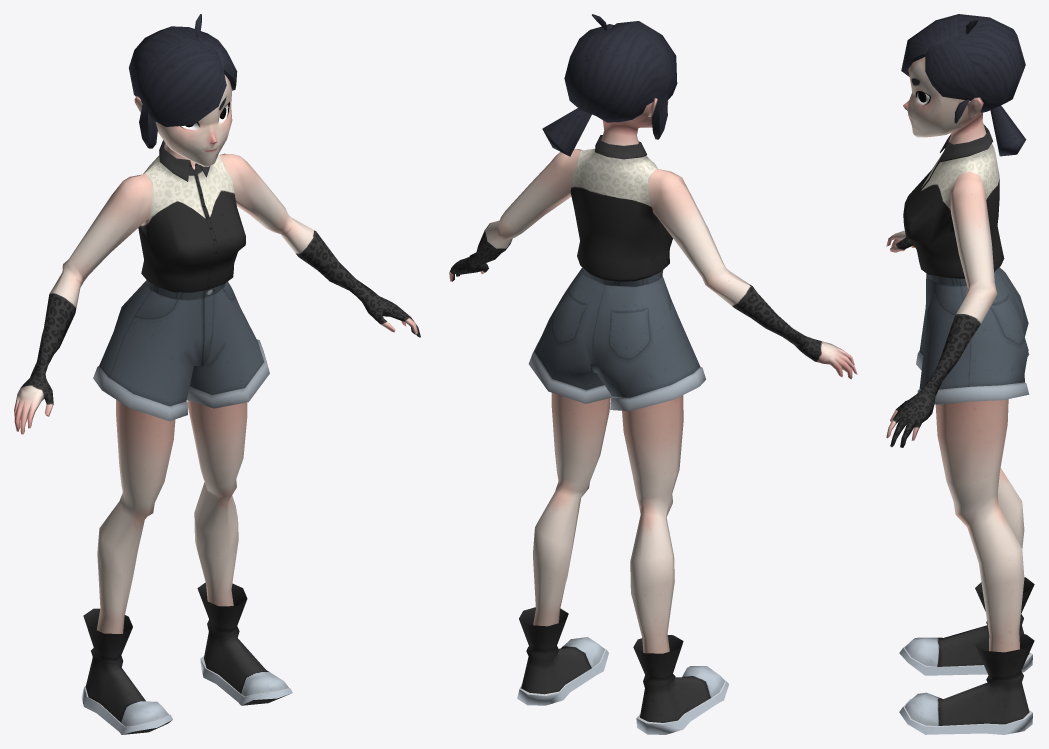
Rendered from Character.fbx.
3 views of the same model, side by side, from view 1: azimuth 30°, elevation 25°; view 2: azimuth 150°, elevation 25°; view 3: azimuth 270°, elevation 25° (orthographic).
Parts seen in each view (by area): view 1: SM_Katherine; view 2: SM_Katherine; view 3: SM_Katherine.
Part boxes in pixels (bbox=[...]): SM_Katherine: bbox=[14, 14, 420, 734]; SM_Katherine: bbox=[449, 14, 857, 734]; SM_Katherine: bbox=[886, 14, 1034, 734].
Size of the model in its own units: 9.83 by 15.91 by 3.12.
Materials: 1 (1 with a texture image).
